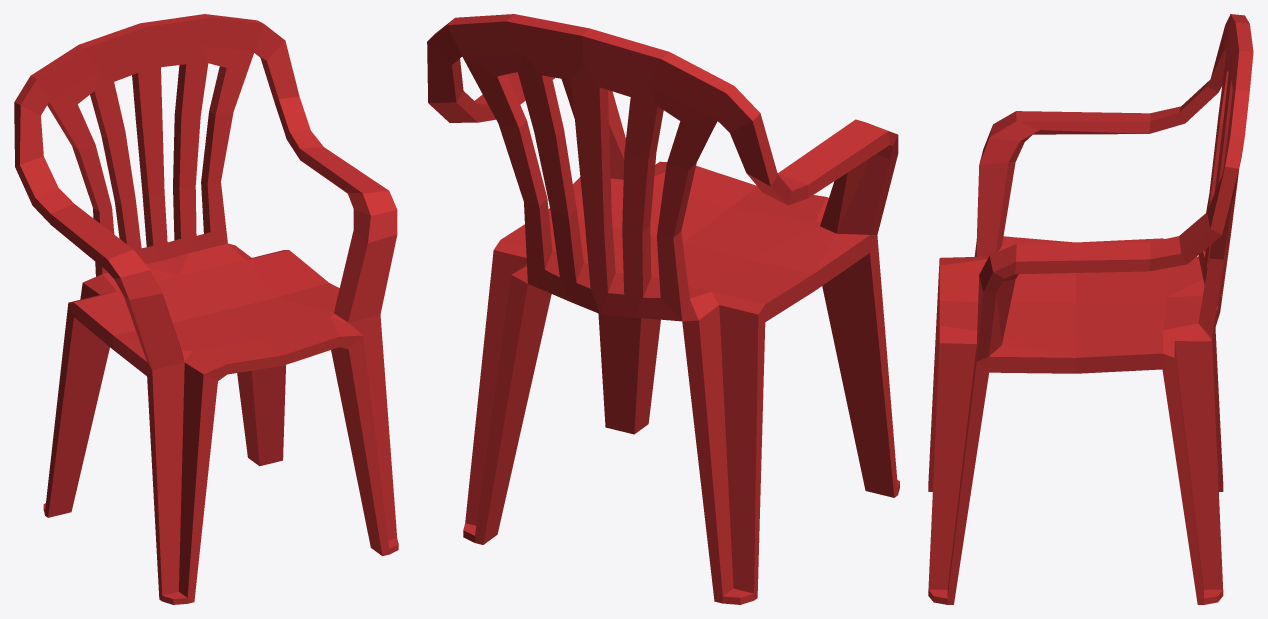
Rendered from PP_Chair2.fbx.
3 views of the same model, side by side, from view 1: azimuth 30°, elevation 25°; view 2: azimuth 150°, elevation 25°; view 3: azimuth 270°, elevation 25° (orthographic). The views are drawn at different scales.
Parts seen in each view (by area): view 1: Chair_02; view 2: Chair_02; view 3: Chair_02.
Part boxes in pixels (bbox=[...]): Chair_02: bbox=[14, 14, 398, 604]; Chair_02: bbox=[427, 14, 899, 604]; Chair_02: bbox=[928, 14, 1253, 604].
Bounding box in the file's own units: 66.54 × 100 × 60.19.
